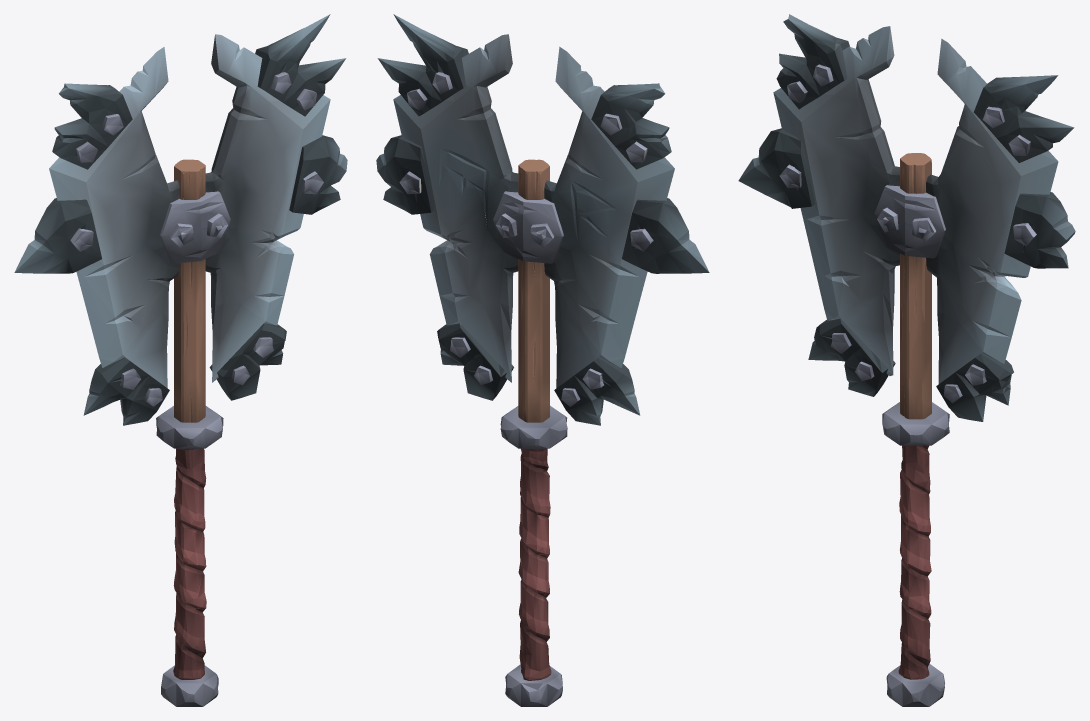
File: epic_FleshRipper.fbx
The picture shows the model from 3 angles, left to right: view 1: azimuth 30°, elevation 25°; view 2: azimuth 150°, elevation 25°; view 3: azimuth 330°, elevation 25°; orthographic projection.
Visible parts, largest first — view 1: epic_FleshRipper_mesh; view 2: epic_FleshRipper_mesh; view 3: epic_FleshRipper_mesh.
Part boxes in pixels (x1,y1,x2,y2): epic_FleshRipper_mesh: (14,14,347,706); epic_FleshRipper_mesh: (376,14,709,706); epic_FleshRipper_mesh: (738,14,1075,706).
Size of the model in its own units: 1.31 by 2.47 by 0.2269.
